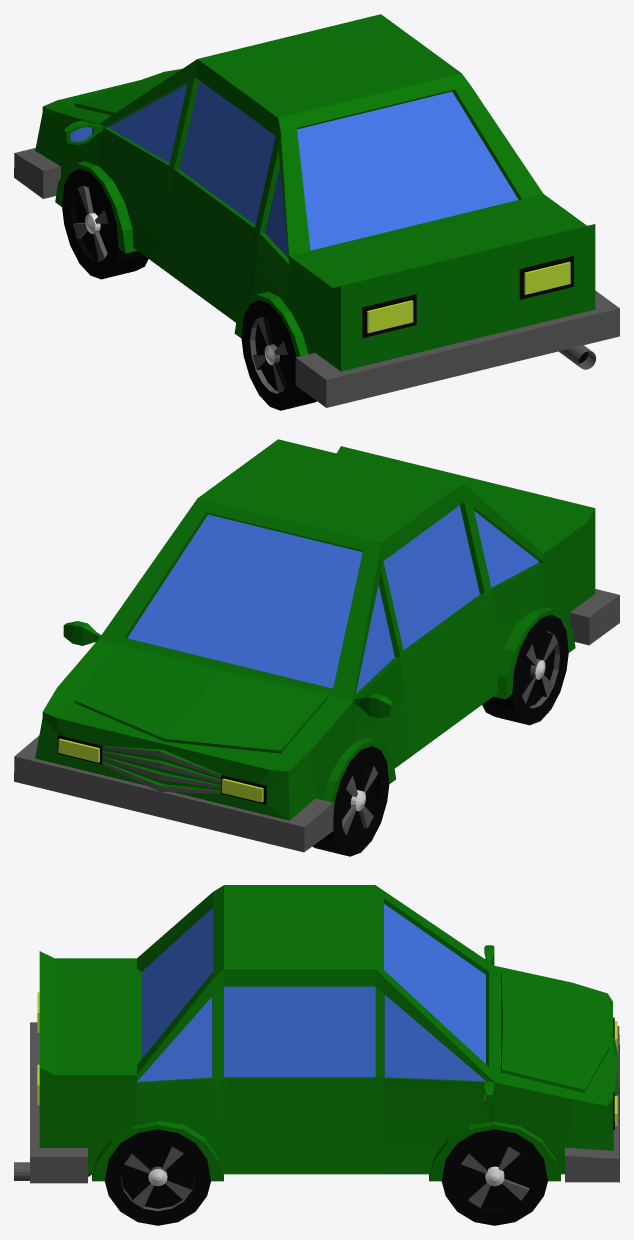
Rendered from car_4.fbx.
3 renders of one model, top to bottom at view 1: azimuth 30°, elevation 25°; view 2: azimuth 150°, elevation 25°; view 3: azimuth 270°, elevation 25°, orthographic. The views are drawn at different scales.
Parts seen in each view (by area): view 1: Car3; view 2: Car3; view 3: Car3.
Boxes of the visible parts, x1=… form: Car3: x1=14, y1=14, x2=619, y2=410; Car3: x1=14, y1=439, x2=619, y2=856; Car3: x1=14, y1=885, x2=619, y2=1225.
Size of the model in its own units: 73.11 by 53.96 by 125.
